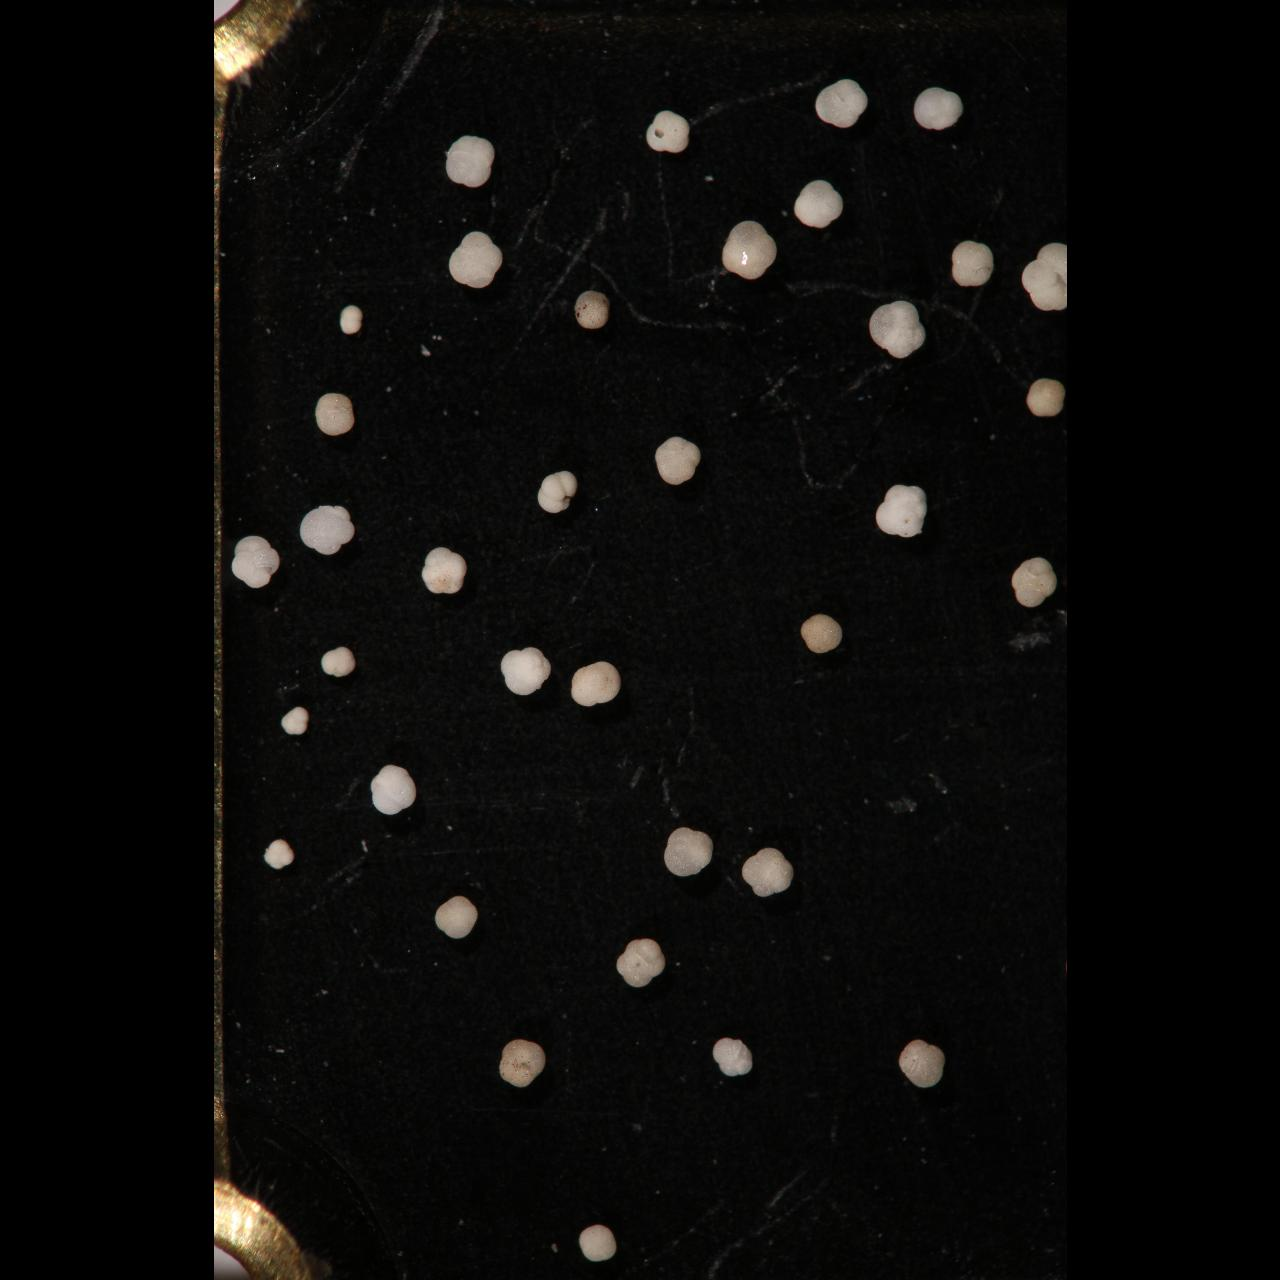planktic: (720, 218, 778, 282), (869, 298, 927, 360), (445, 229, 504, 290), (1020, 240, 1065, 312), (812, 75, 870, 130), (297, 503, 354, 558), (873, 483, 927, 539), (230, 533, 282, 591), (661, 824, 713, 880), (742, 845, 795, 899), (613, 935, 666, 989), (444, 134, 496, 189), (792, 177, 844, 231), (499, 646, 551, 699), (898, 1037, 948, 1090), (368, 763, 416, 817), (498, 1037, 547, 1089), (653, 436, 701, 489), (1010, 556, 1057, 610), (570, 659, 620, 708), (913, 84, 965, 131), (422, 545, 468, 598), (433, 893, 479, 941), (951, 238, 994, 288), (645, 109, 689, 156), (799, 612, 844, 656), (537, 468, 578, 516), (315, 390, 355, 438), (712, 1035, 753, 1077), (578, 1223, 618, 1266), (1024, 377, 1065, 418), (572, 288, 610, 332), (320, 646, 356, 680), (279, 704, 312, 737), (264, 838, 294, 871), (338, 302, 365, 335)
